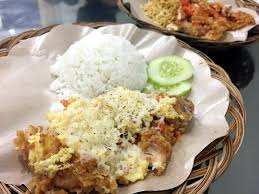ayam_geprek: (18, 94, 195, 176)
